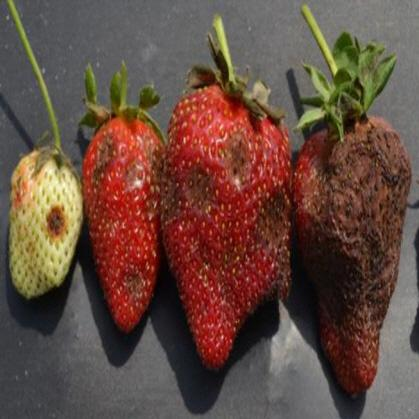Anthracnose Fruit Rot: (293, 121, 413, 373), (163, 125, 291, 306), (89, 130, 166, 301), (43, 203, 69, 242)
